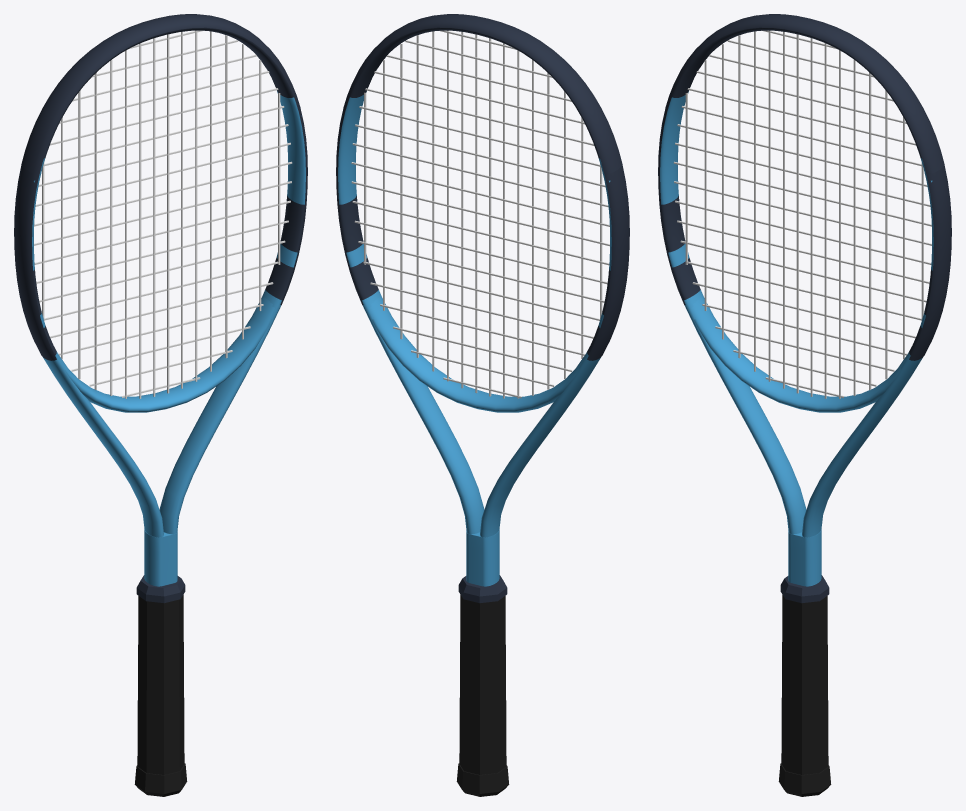
File: babolat-pure-drive-100.glb
3 views of the same model, side by side, from view 1: azimuth 30°, elevation 25°; view 2: azimuth 150°, elevation 25°; view 3: azimuth 330°, elevation 25° (orthographic).
Parts seen in each view (by area): view 1: frame, strings_mains, strings_crosses, grip, bumper, grommets, butt_cap, collar; view 2: frame, strings_mains, strings_crosses, grip, bumper, grommets, butt_cap, collar; view 3: frame, strings_mains, strings_crosses, grip, bumper, grommets, butt_cap, collar.
Boxes of the visible parts, x1=… form: frame: x1=32, y1=27, x2=305, y2=586; strings_mains: x1=42, y1=30, x2=280, y2=398; strings_crosses: x1=34, y1=30, x2=292, y2=397; grip: x1=137, y1=595, x2=184, y2=774; bumper: x1=21, y1=14, x2=300, y2=174; grommets: x1=14, y1=109, x2=307, y2=360; butt_cap: x1=134, y1=763, x2=187, y2=796; collar: x1=136, y1=575, x2=185, y2=603; frame: x1=338, y1=27, x2=611, y2=586; strings_mains: x1=364, y1=30, x2=602, y2=398; strings_crosses: x1=351, y1=30, x2=609, y2=398; grip: x1=459, y1=595, x2=506, y2=774; bumper: x1=343, y1=14, x2=622, y2=174; grommets: x1=336, y1=109, x2=629, y2=360; butt_cap: x1=456, y1=763, x2=509, y2=796; collar: x1=458, y1=575, x2=507, y2=603; frame: x1=660, y1=27, x2=933, y2=586; strings_mains: x1=685, y1=30, x2=923, y2=398; strings_crosses: x1=673, y1=30, x2=931, y2=397; grip: x1=781, y1=595, x2=828, y2=774; bumper: x1=665, y1=14, x2=944, y2=174; grommets: x1=658, y1=109, x2=951, y2=360; butt_cap: x1=778, y1=763, x2=831, y2=796; collar: x1=780, y1=575, x2=829, y2=603.
Size of the model in its own units: 0.2678 by 0.6861 by 0.0396.
